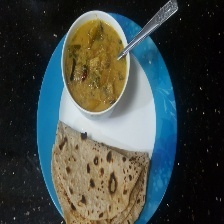roti: (51, 120, 149, 224)
